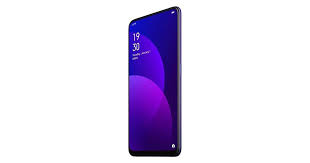oppo: (123, 4, 183, 157)
